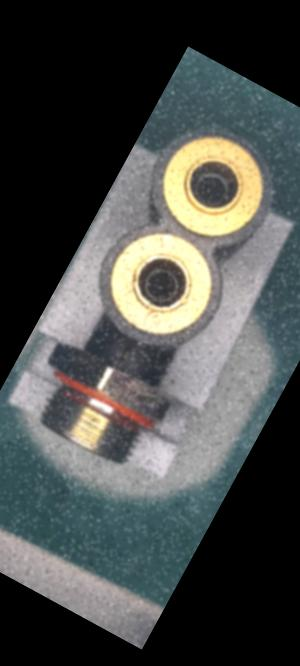craze: (110, 341, 135, 372)
